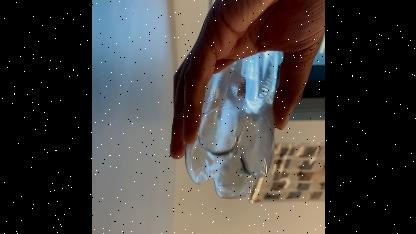Plastic Bottle: (178, 48, 282, 200)
